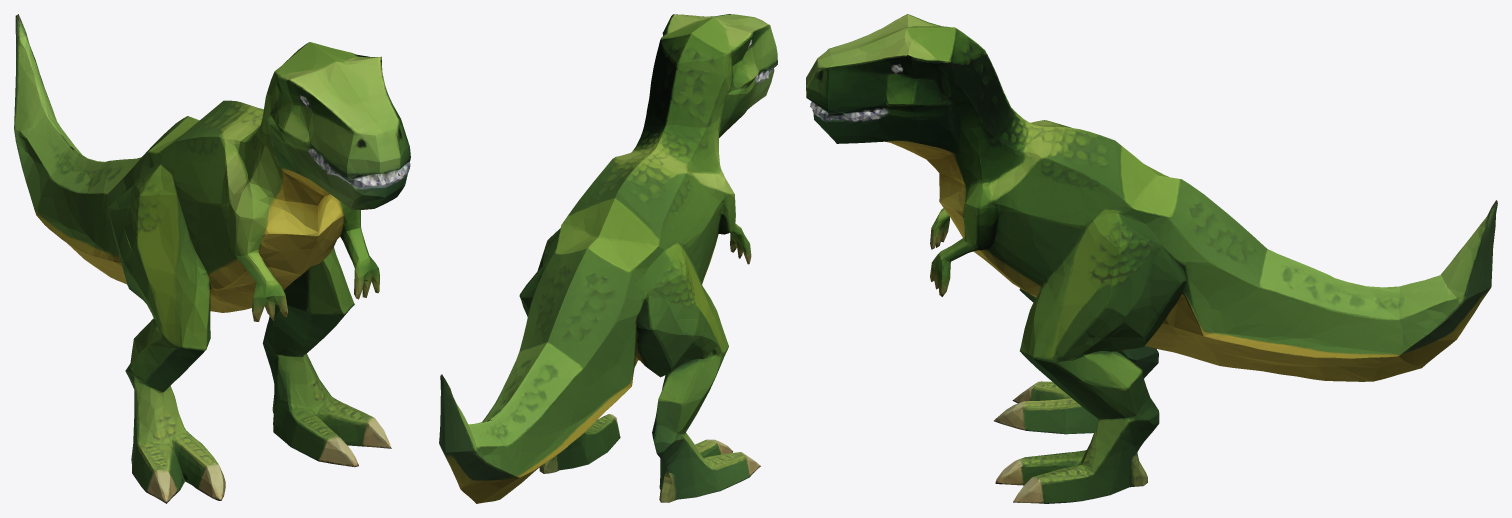
Rendered from model-pick-5.glb.
The picture shows the model from 3 angles, left to right: view 1: azimuth 30°, elevation 25°; view 2: azimuth 150°, elevation 25°; view 3: azimuth 270°, elevation 25°; orthographic projection. The views are drawn at different scales.
Parts seen in each view (by area): view 1: geometry_0; view 2: geometry_0; view 3: geometry_0.
Boxes of the visible parts, x1,y1,x2,y2 form: geometry_0: (14, 14, 410, 503); geometry_0: (439, 14, 777, 503); geometry_0: (806, 14, 1497, 503).
Size of the model in its own units: 0.3573 by 0.6778 by 0.9998.
Materials: 1 (1 with a texture image).
